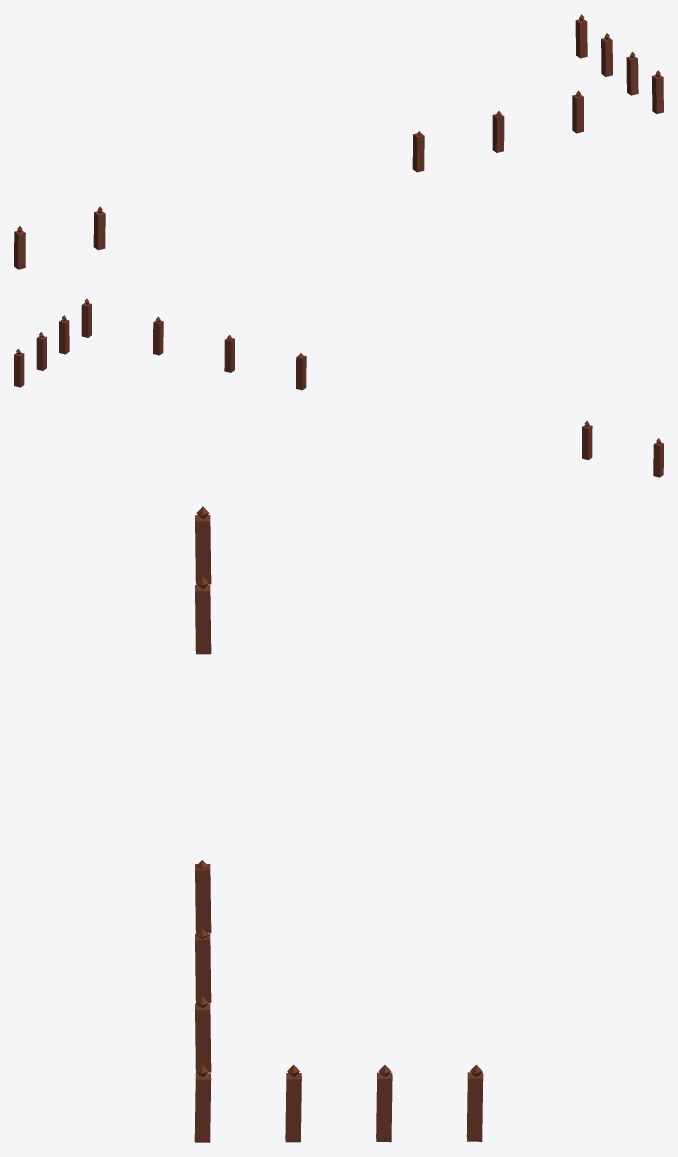
The model's file is libsupports_2.fbx.
3 views of the same model, one above another, from view 1: azimuth 30°, elevation 25°; view 2: azimuth 150°, elevation 25°; view 3: azimuth 270°, elevation 25° (orthographic). The views are drawn at different scales.
Visible parts, largest first — view 1: StairRail_Decor.009; view 2: StairRail_Decor.009; view 3: StairRail_Decor.009.
Part boxes in pixels (x1,y1,x2,y2): StairRail_Decor.009: (14,14,663,269); StairRail_Decor.009: (14,298,663,477); StairRail_Decor.009: (194,506,483,1142).
Size of the model in its own units: 7387 by 458 by 1595.
